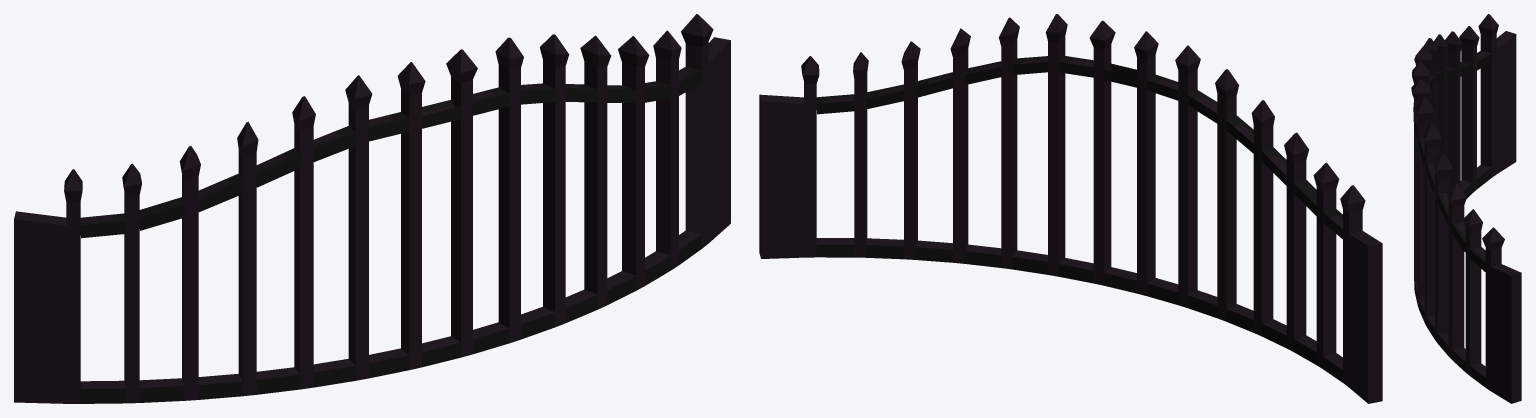
The model's file is Pager.fbx.
3 renders of one model, left to right at view 1: azimuth 30°, elevation 25°; view 2: azimuth 150°, elevation 25°; view 3: azimuth 270°, elevation 25°, orthographic. The views are drawn at different scales.
Visible parts, largest first — view 1: Cube.007; view 2: Cube.007; view 3: Cube.007.
Part boxes in pixels (x1,y1,x2,y2): Cube.007: (14, 14, 730, 403); Cube.007: (759, 14, 1382, 403); Cube.007: (1411, 14, 1521, 403).
Bounding box in the file's own units: 9.3 × 3.73 × 1.77.
